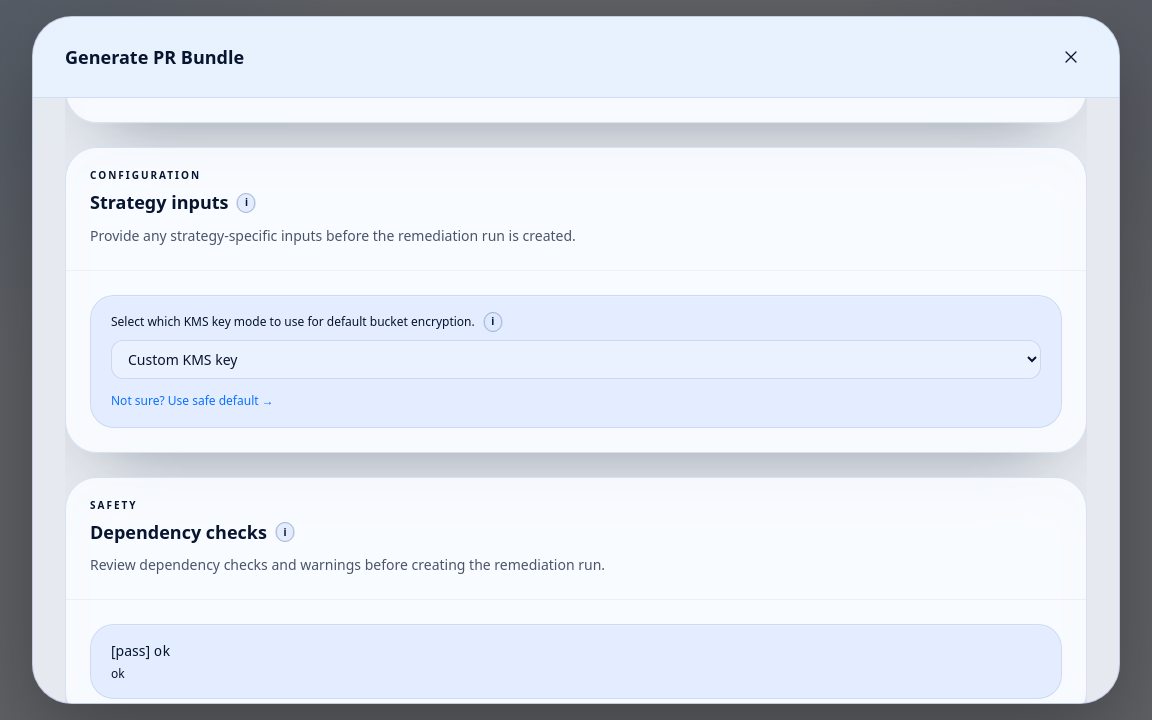
RemediationModal › applies safe default for S3.15 key mode escape hatch
The width and height of the screenshot is (1152, 720).
(page scrolled)
Check: the dropdown labelled "Select which KMS key mode" shows "Custom KMS key", box top-left (111, 340), bottom-right (1041, 379)
Click the button "Not sure? Use safe default →" at [192, 401], box top-left (111, 393), bottom-right (274, 409)
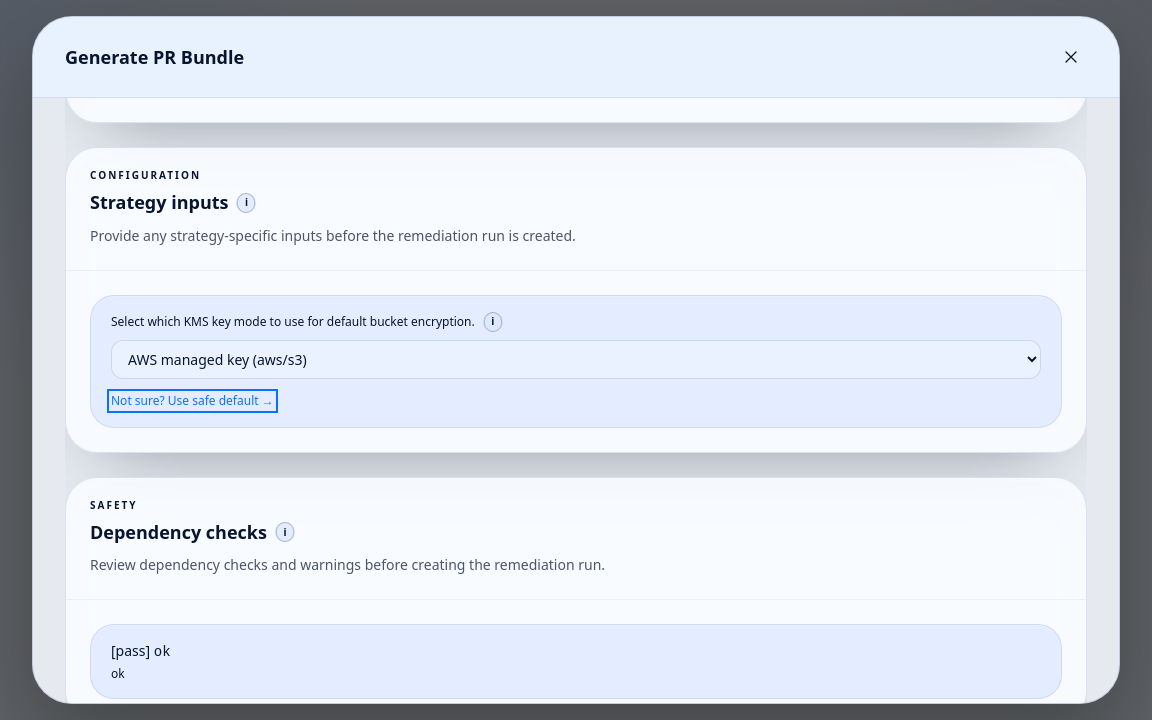
Check: the dropdown labelled "Select which KMS key mode" shows "AWS managed key (aws/s3)", box top-left (111, 340), bottom-right (1041, 379)
